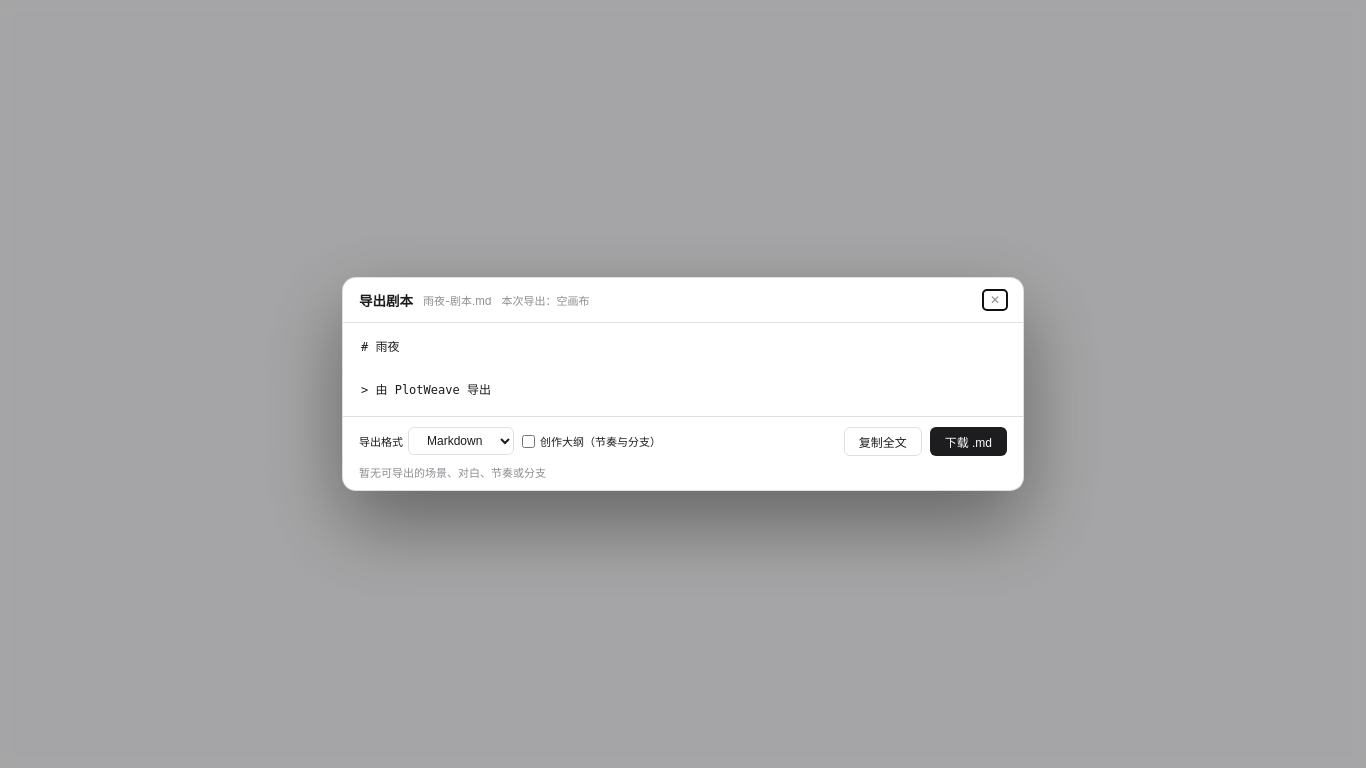
Test: JSON 导出的格式与交付 › 回到 Markdown 时保留原大纲选择与文本
Step 1. Click the checkbox labelled "创作大纲（节奏与分支）" → (528, 441), box [522,435,535,448]
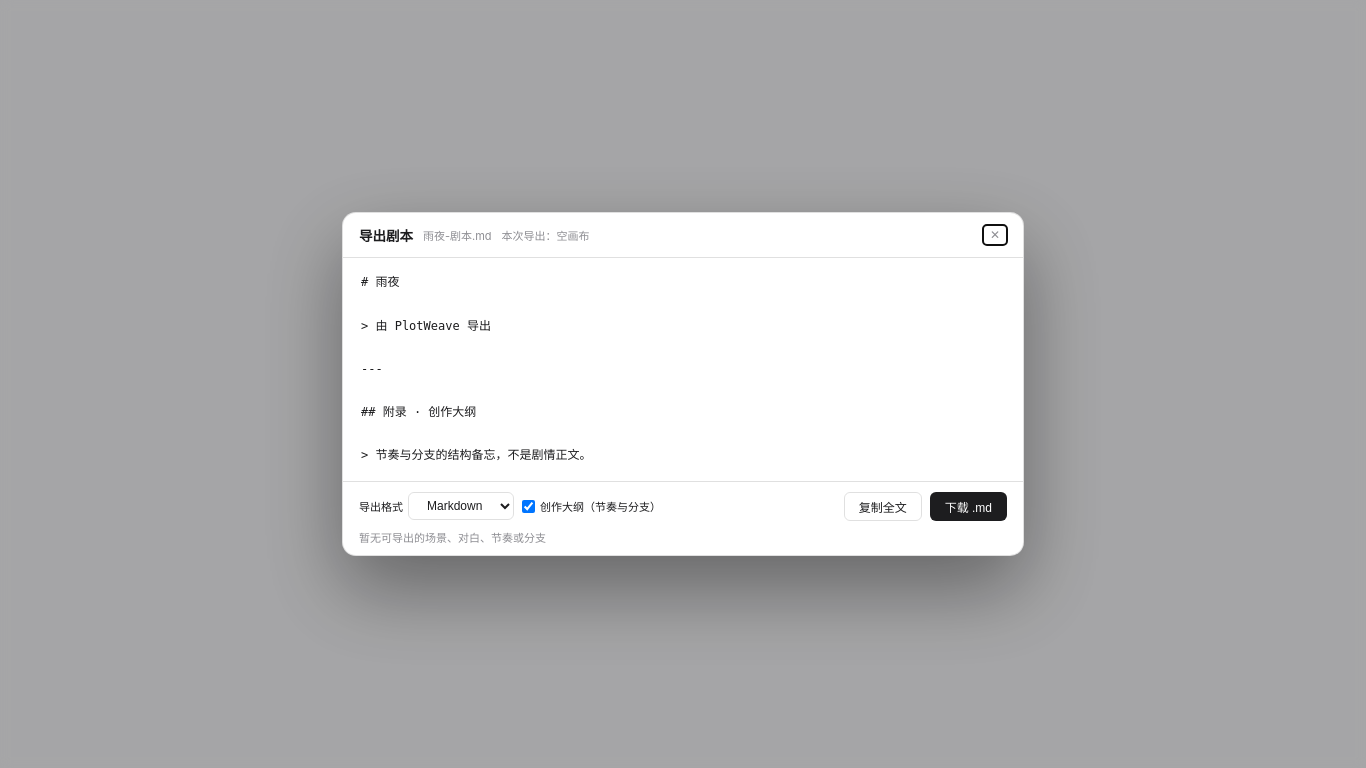
Step 2. Select "JSON" in the dropdown labelled "导出格式" → (461, 506), box [408,492,514,520]
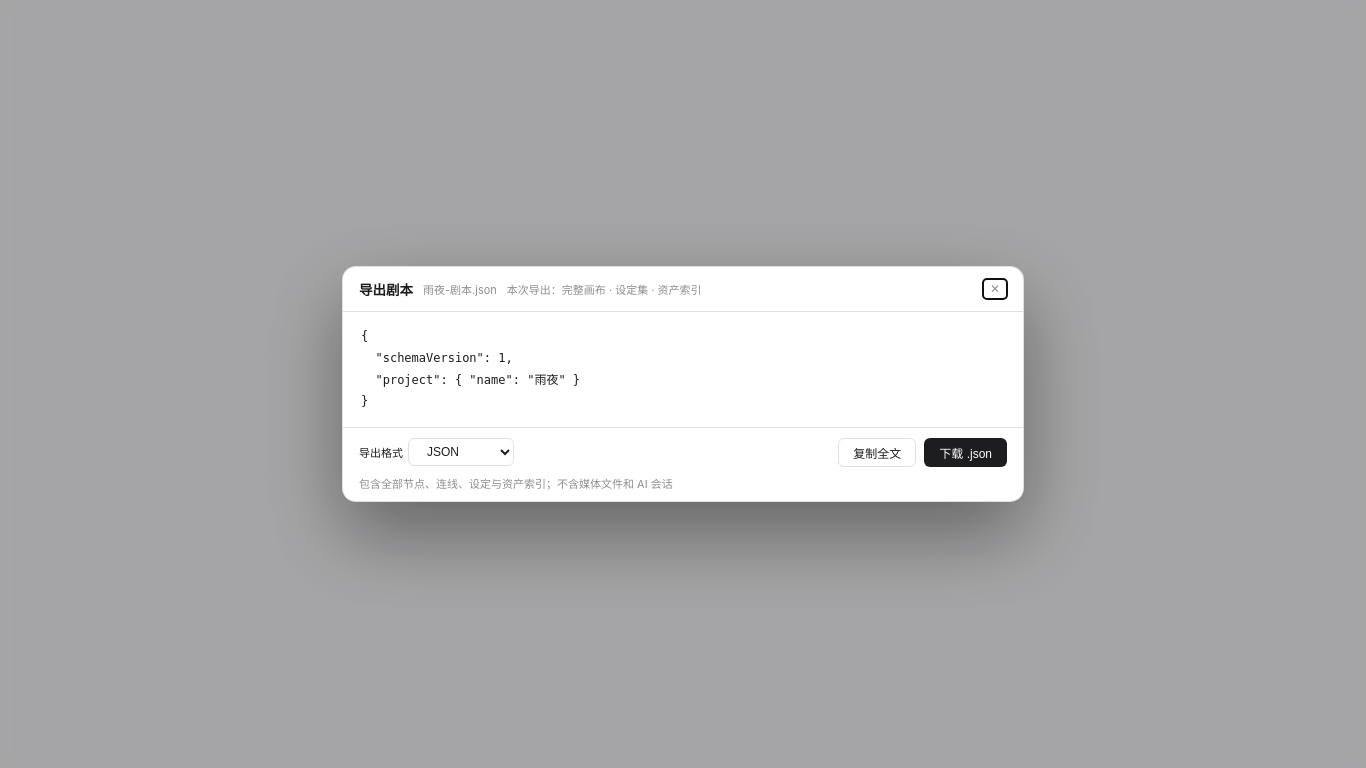
Step 3. Select "Markdown" in the dropdown labelled "导出格式" → (461, 452), box [408,438,514,466]
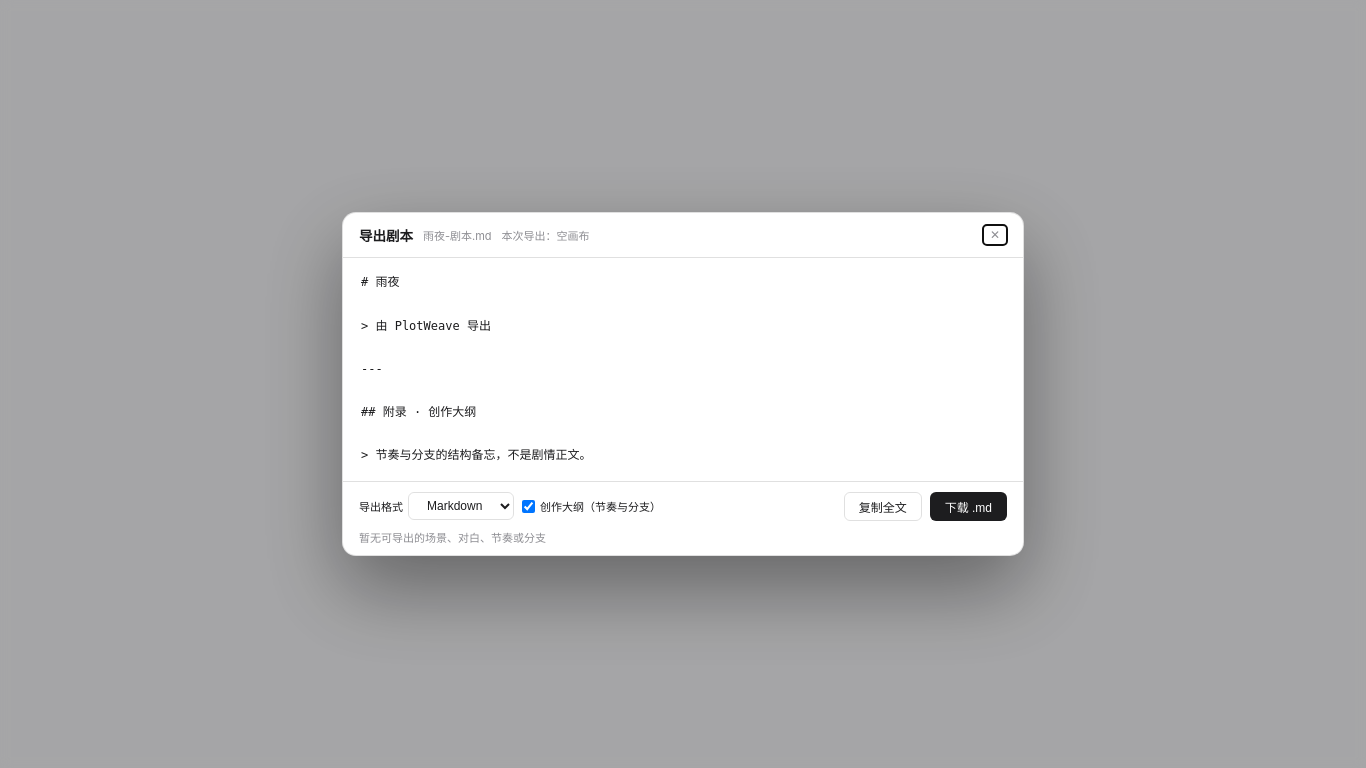
expect the checkbox labelled "创作大纲（节奏与分支）" is checked: met, box [522,500,535,513]
